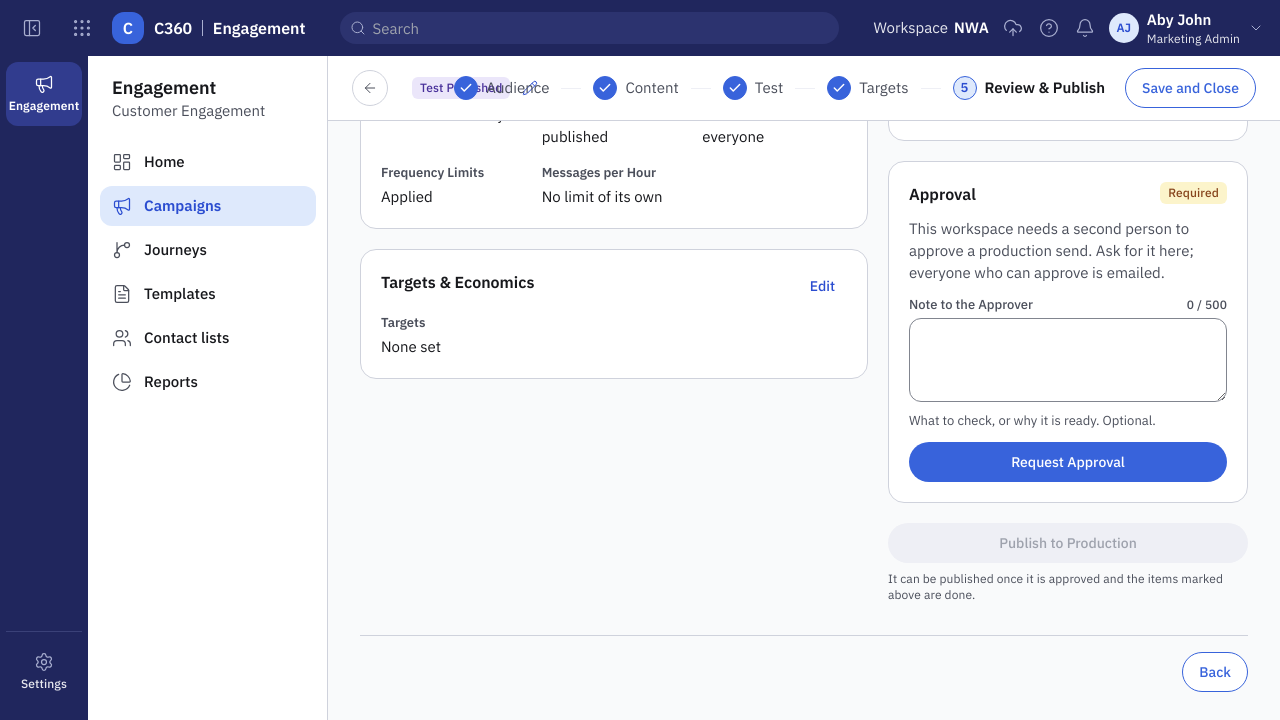
it: the author asks for approval with a note; publishing stays shut until it is approved
(page scrolled)
expect the text "Required" is shown: met, box left=1160, top=182, right=1227, bottom=204
expect the button "Publish to Production" is disabled: met, box left=888, top=523, right=1248, bottom=563
In the text box labelled "Note to the Approver": [1068, 360] box left=909, top=318, right=1227, bottom=402, type "Loyalty Gold+ only."
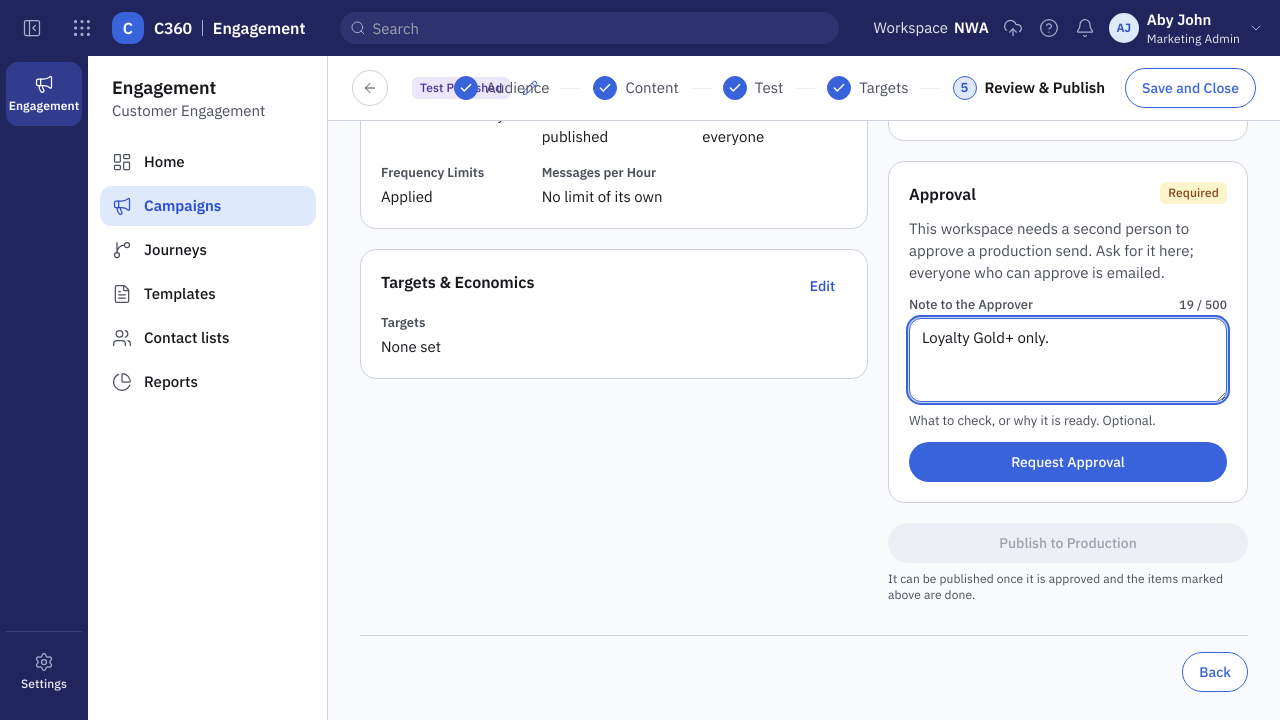
Click the button "Request Approval": [1068, 462] box left=909, top=442, right=1227, bottom=482
(page scrolled)
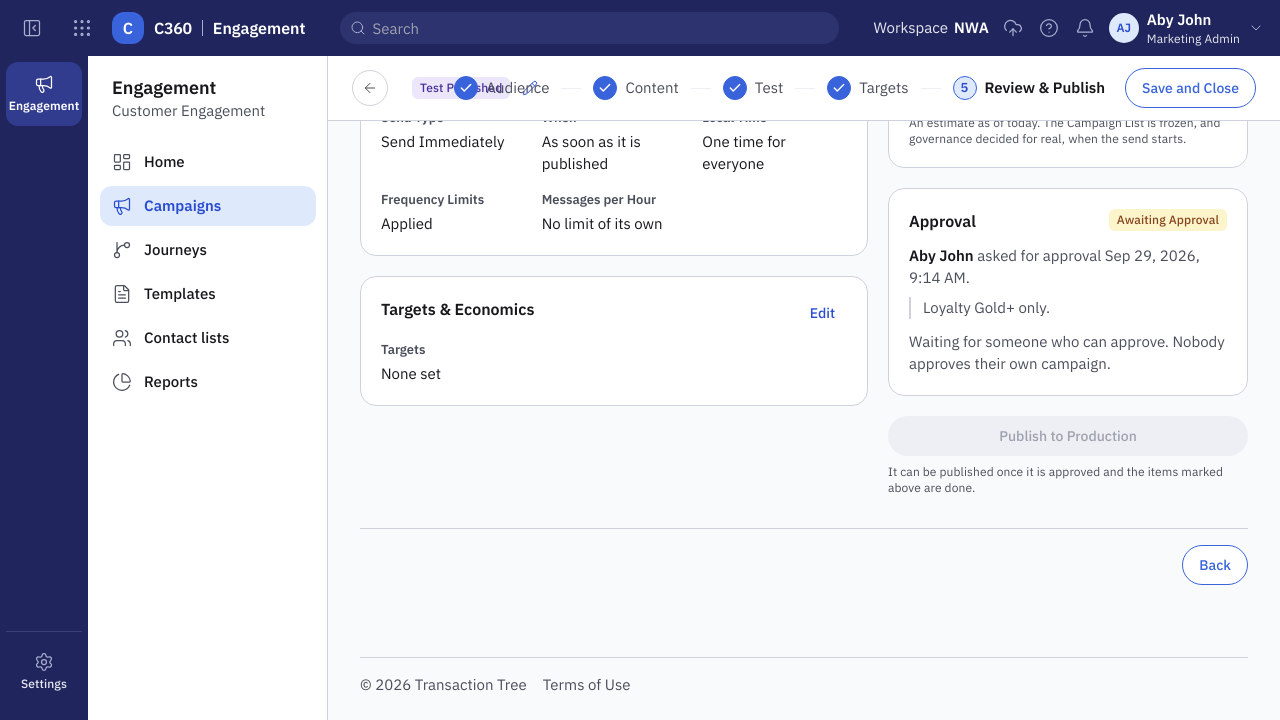
expect the text "Awaiting Approval" is shown: met, box left=1109, top=209, right=1227, bottom=231
expect the text "Waiting for someone who can approve. Nobody approves their own campaign." is shown: met, box left=909, top=331, right=1227, bottom=375
